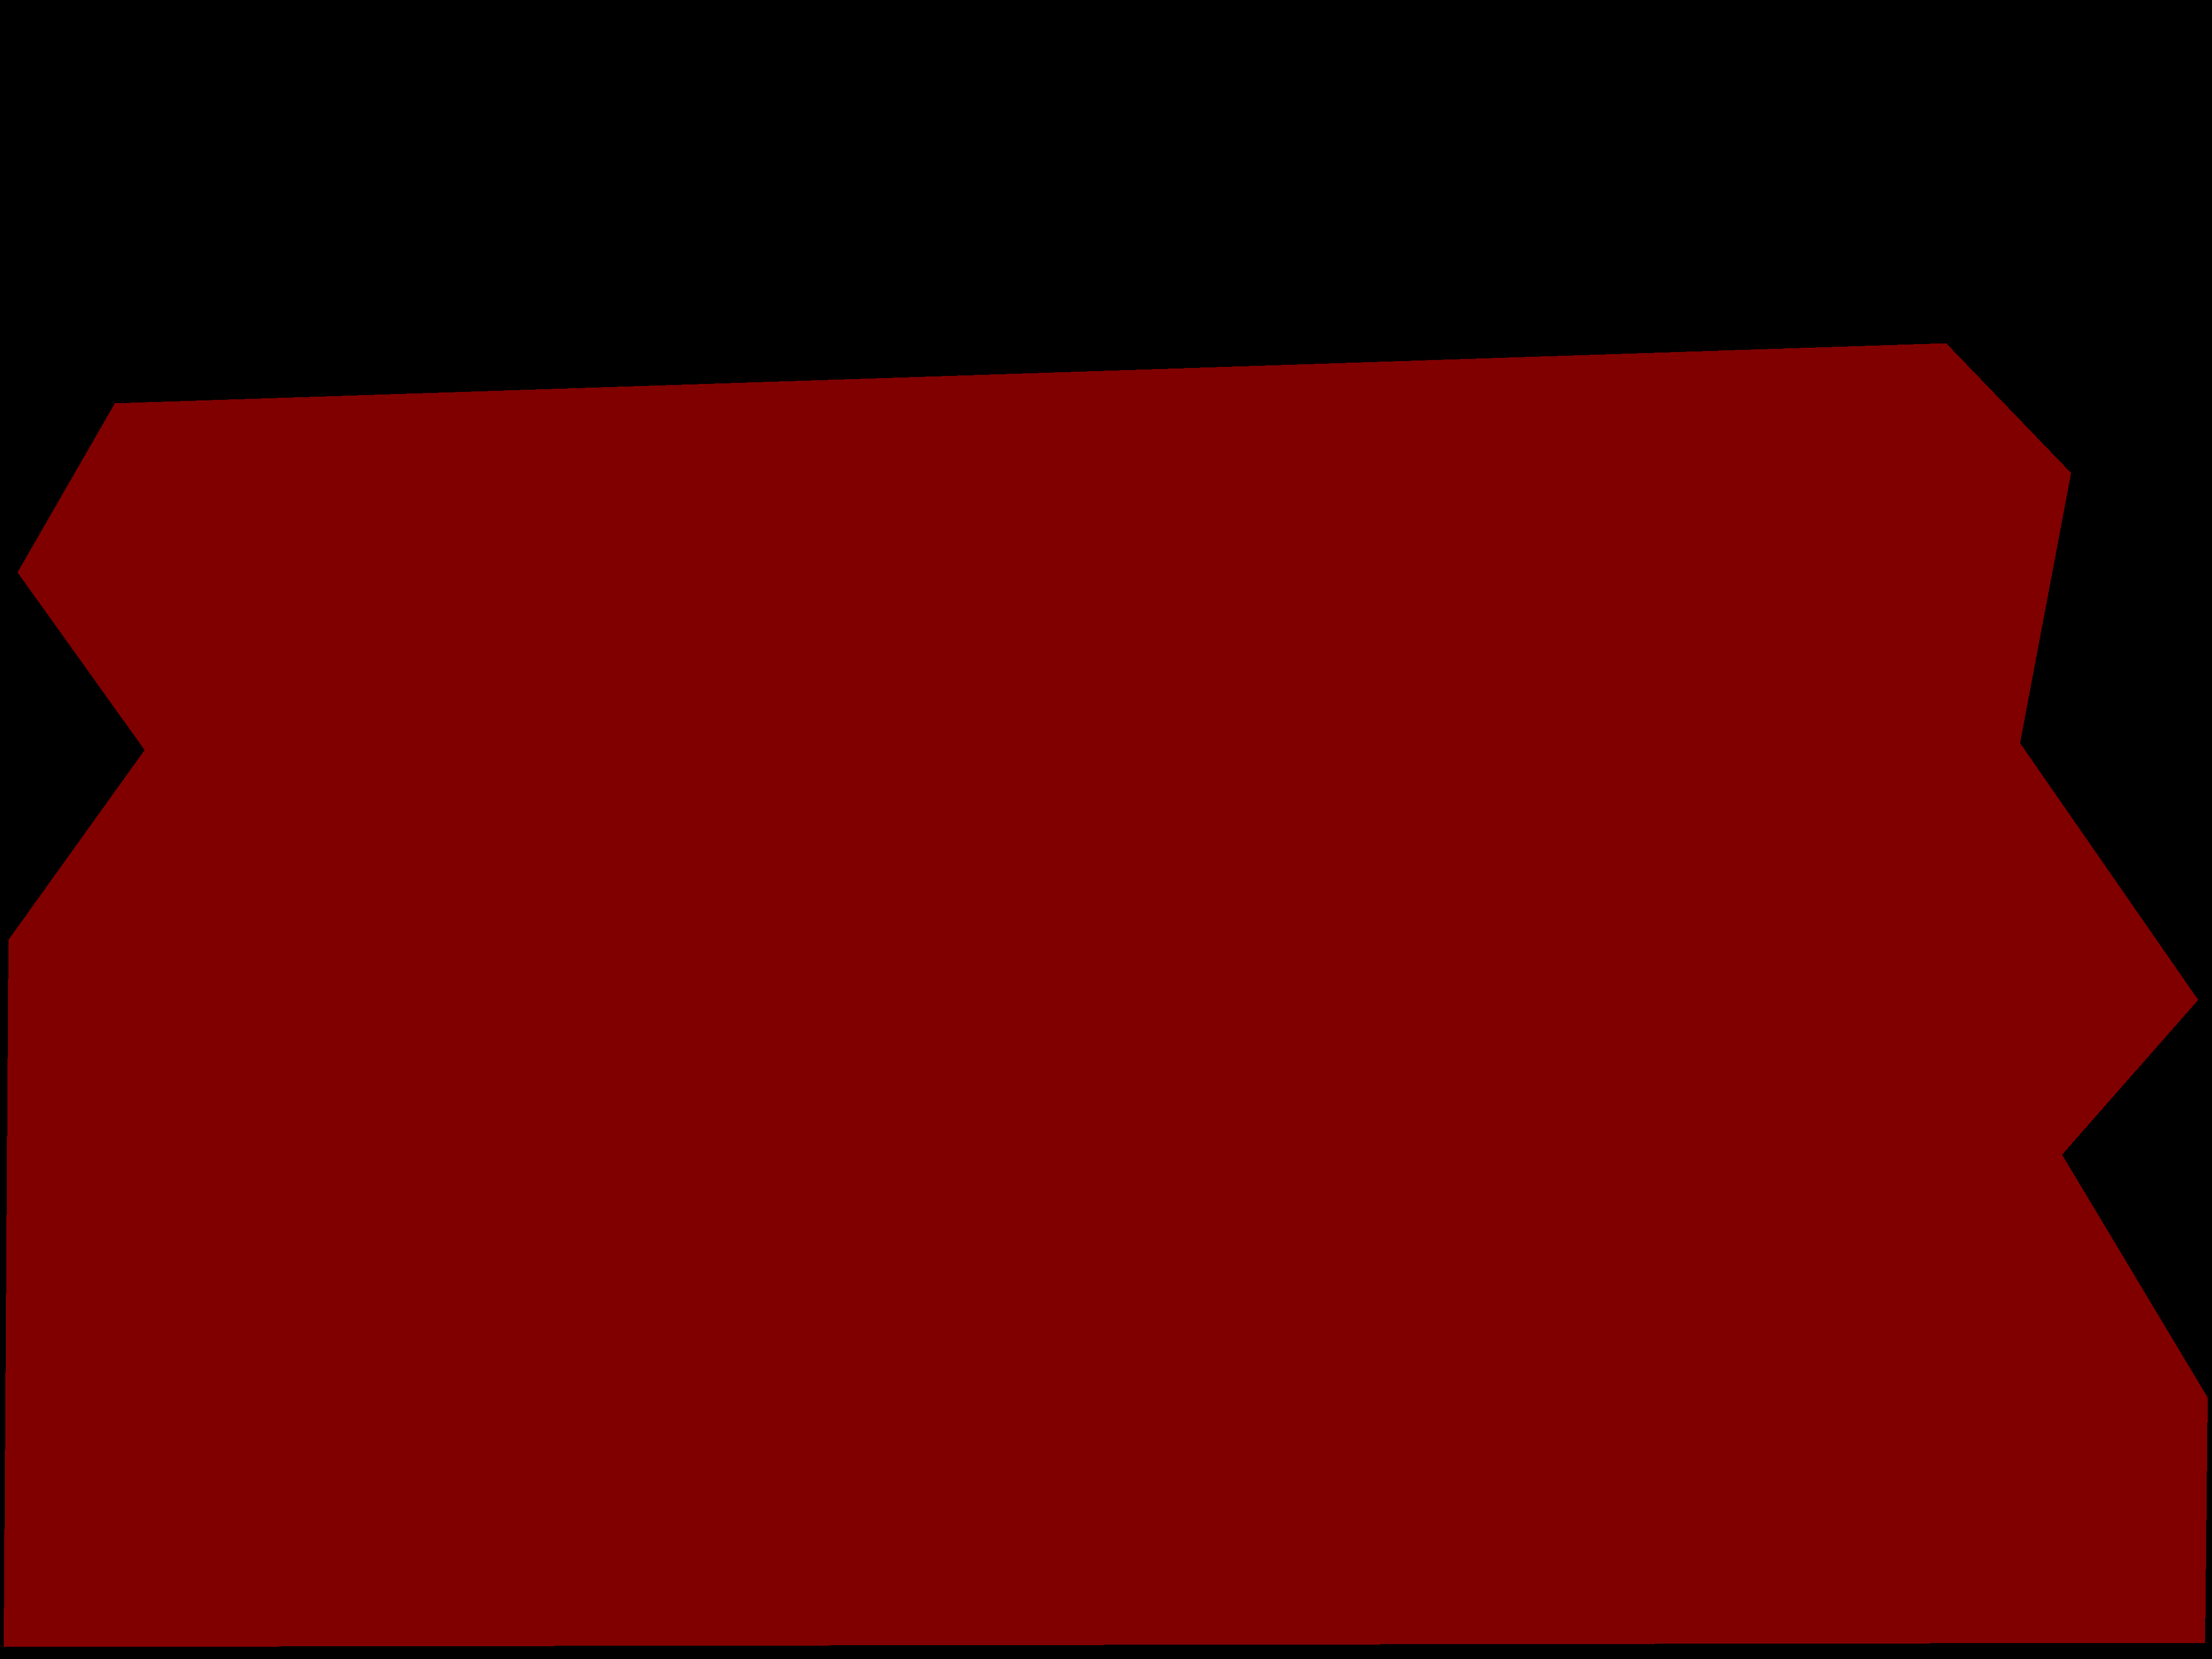stair: (3, 343, 2207, 1647)
